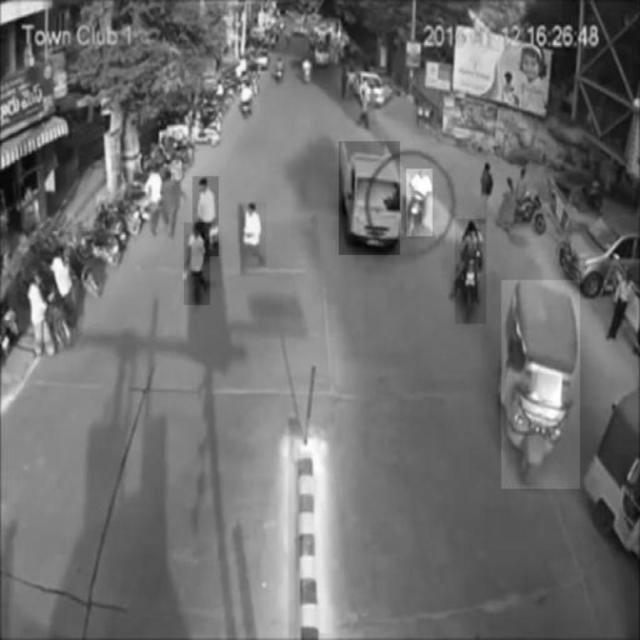person: (184, 223, 210, 306), (193, 176, 219, 256), (240, 203, 266, 276)
vehicle: (502, 280, 580, 488), (339, 142, 400, 255), (456, 219, 486, 323), (407, 169, 433, 236)
